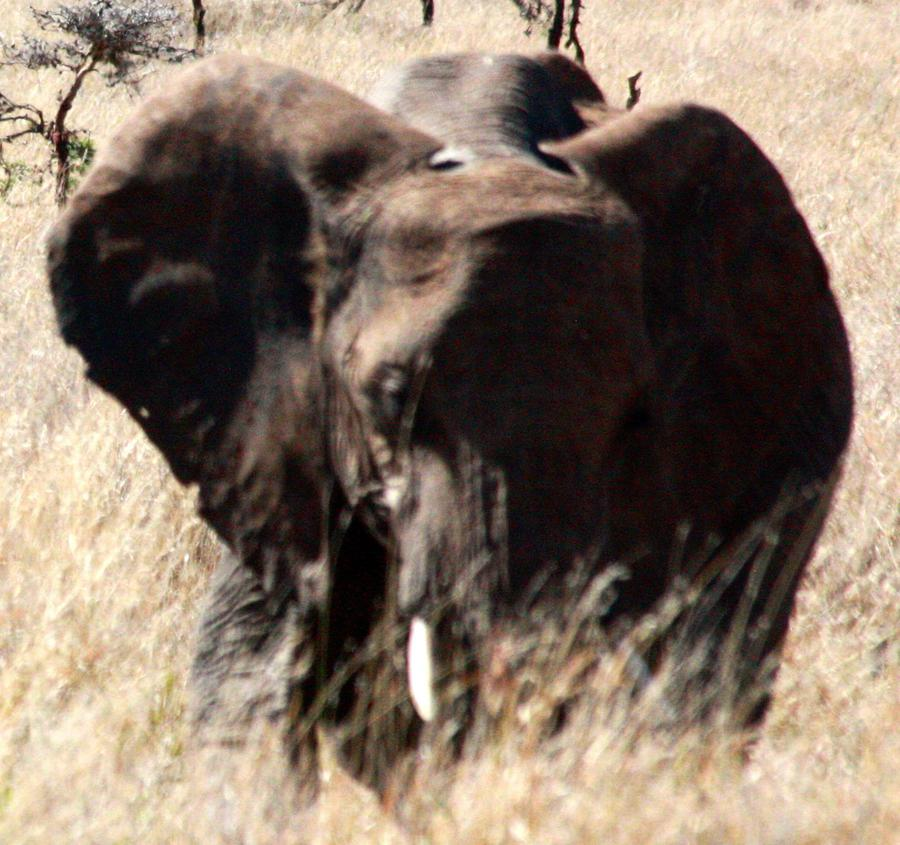elephant: (65, 57, 729, 696)
